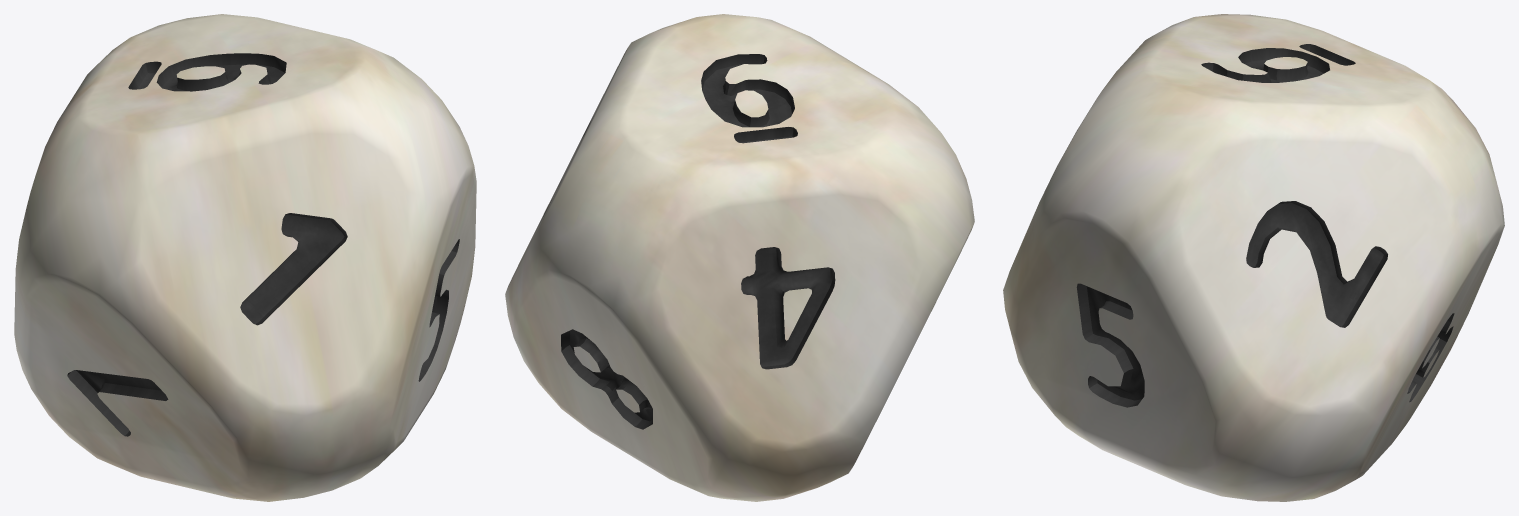
Rendered from Dice008.fbx.
The picture shows the model from 3 angles, left to right: view 1: azimuth 30°, elevation 25°; view 2: azimuth 150°, elevation 25°; view 3: azimuth 270°, elevation 25°; orthographic projection. The views are drawn at different scales.
Parts seen in each view (by area): view 1: Dice008; view 2: Dice008; view 3: Dice008.
Boxes of the visible parts, x1,y1,x2,y2 form: Dice008: (14,14,476,501); Dice008: (505,14,974,501); Dice008: (1003,14,1504,501).
Bounding box in the file's own units: 3.68 × 3.33 × 3.68.
1 material, 1 textured.
